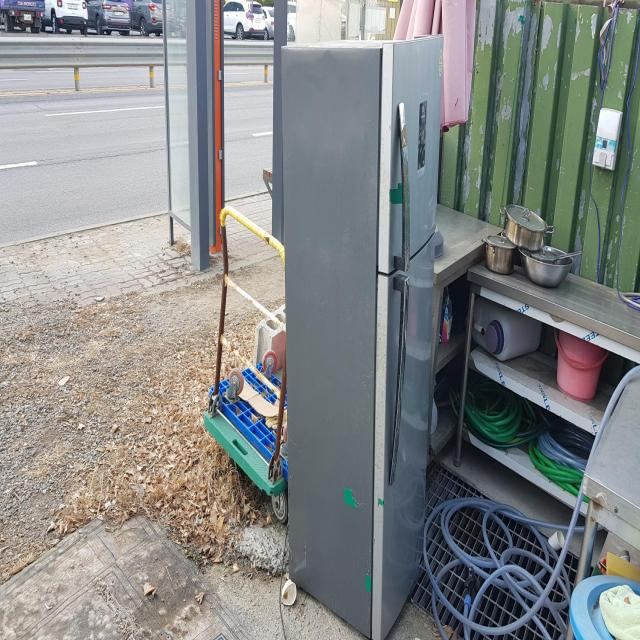refrigerator: (280, 31, 445, 640)
